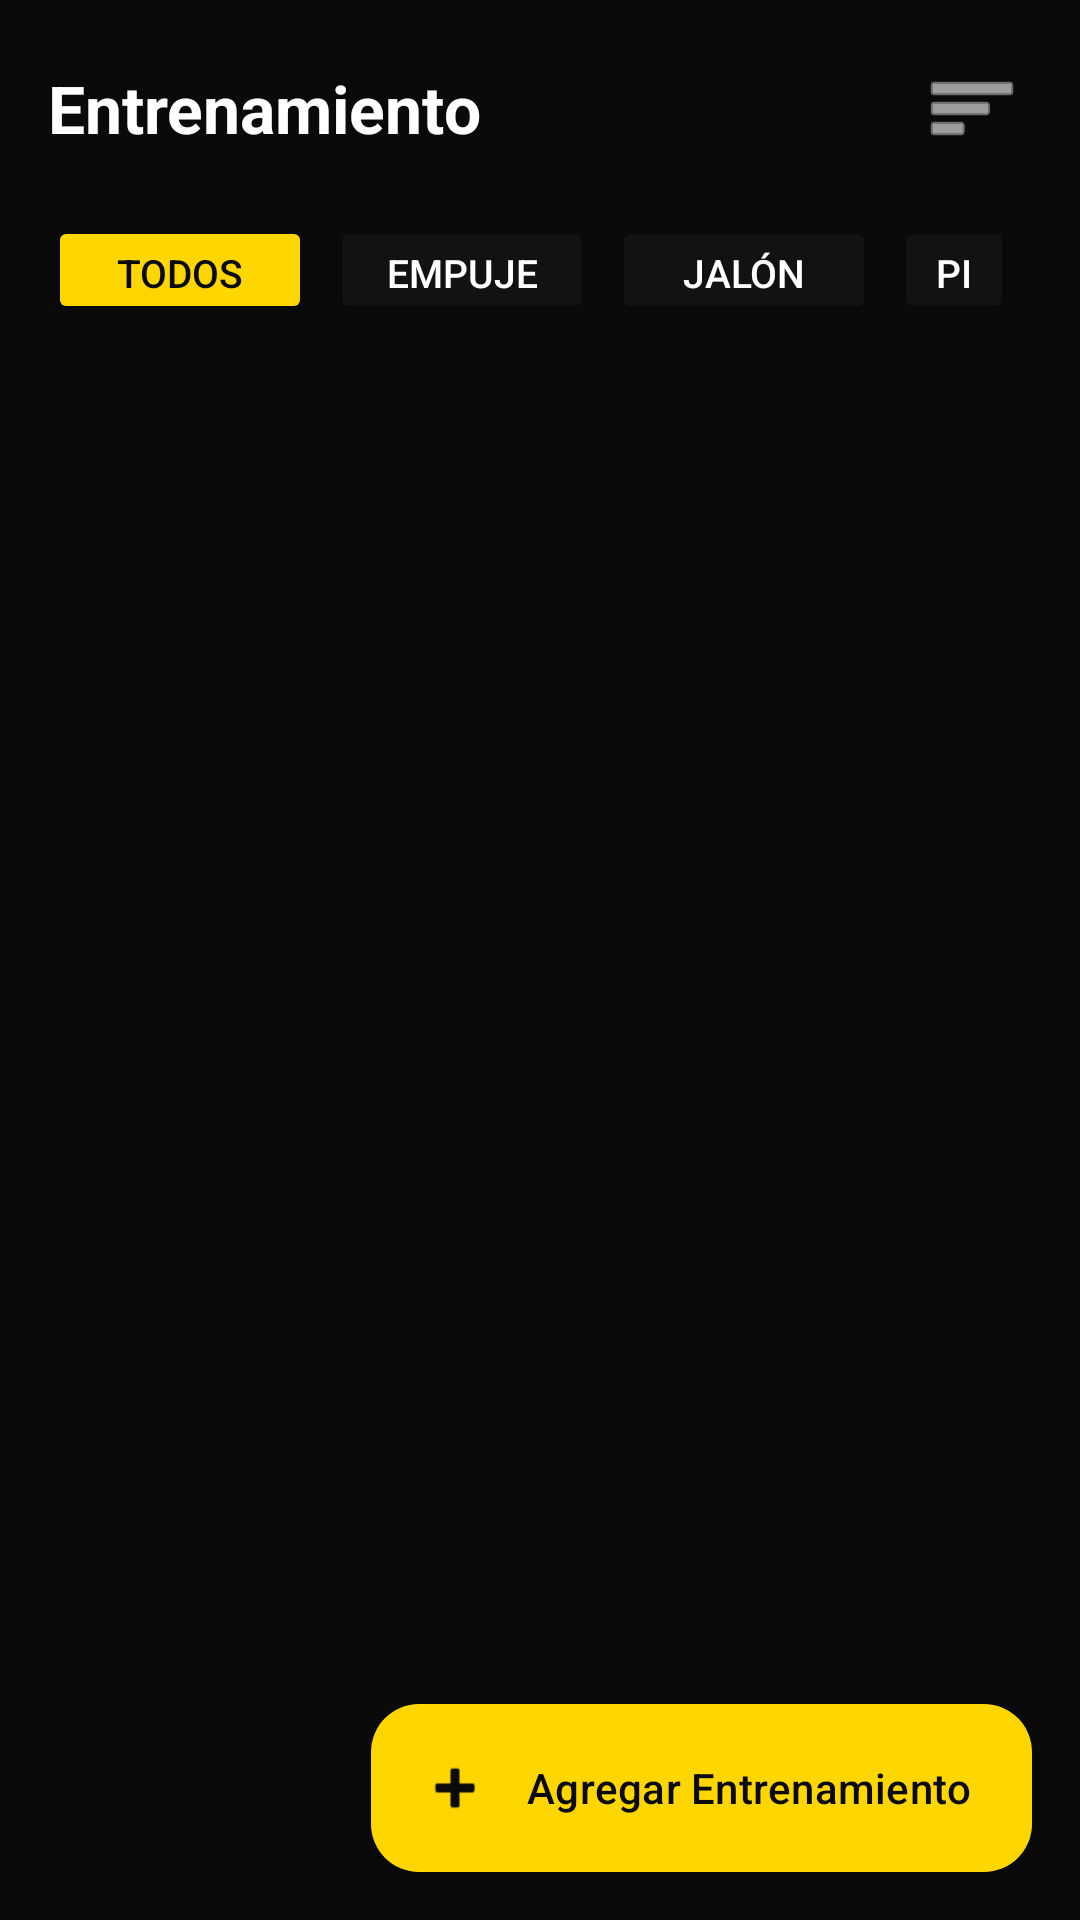

Named icons in this screenshot (1080 × 1920) and their centers, point (x, y):
sort by size: point (972, 108)
